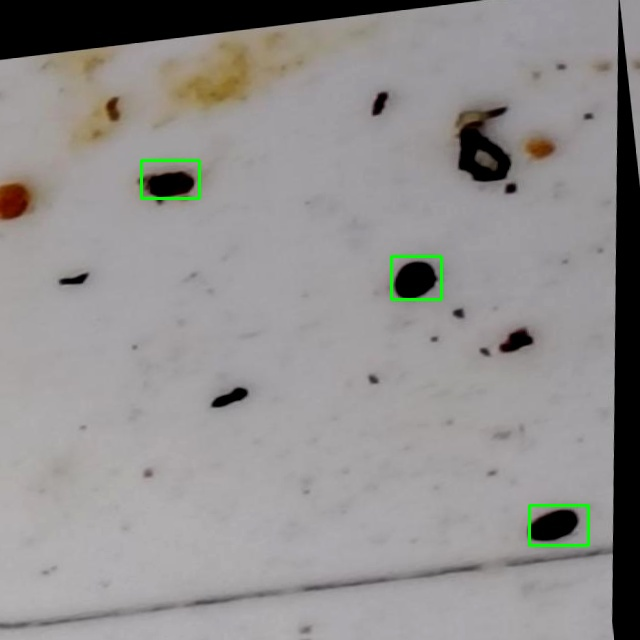varroa: (529, 505, 588, 545), (141, 160, 199, 198), (391, 256, 441, 299)
